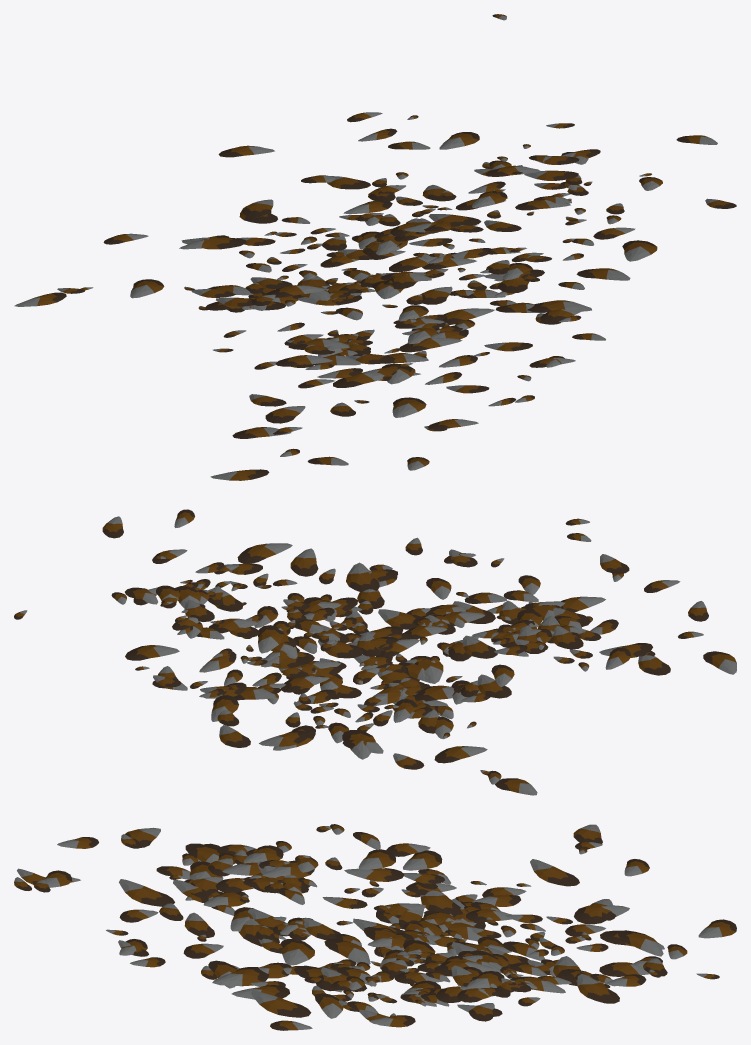
The picture shows the model from 3 angles, top to bottom: view 1: azimuth 30°, elevation 25°; view 2: azimuth 150°, elevation 25°; view 3: azimuth 270°, elevation 25°; orthographic projection. The views are drawn at different scales.
Parts seen in each view (by area): view 1: md5_4bd24aa8bf8be5faf0120e07e9a1128a.001 - copy.003; view 2: md5_4bd24aa8bf8be5faf0120e07e9a1128a.001 - copy.003; view 3: md5_4bd24aa8bf8be5faf0120e07e9a1128a.001 - copy.003.
Part boxes in pixels (left/top/right/bottom): md5_4bd24aa8bf8be5faf0120e07e9a1128a.001 - copy.003: left=14, top=14, right=736, bottom=480; md5_4bd24aa8bf8be5faf0120e07e9a1128a.001 - copy.003: left=14, top=509, right=736, bottom=795; md5_4bd24aa8bf8be5faf0120e07e9a1128a.001 - copy.003: left=14, top=824, right=736, bottom=1030.
Size of the model in its own units: 42.11 by 8.54 by 41.82.
